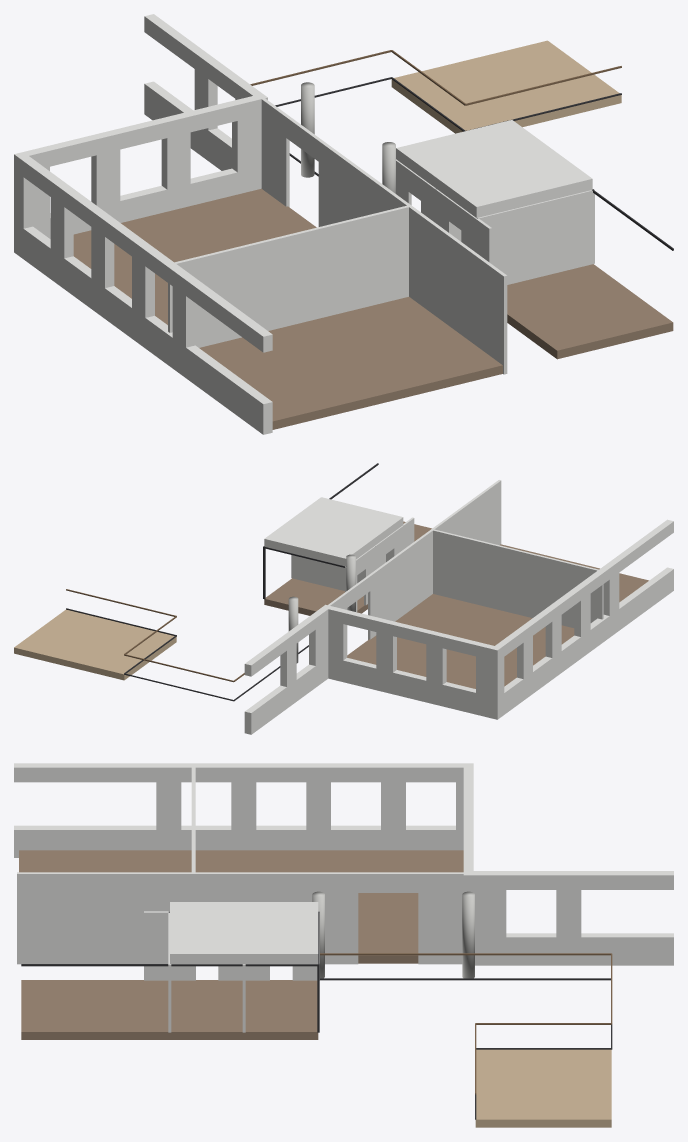
Rendered from SM_Bygg_Helgasetr_P3_V_MN.fbx.
3 renders of one model, top to bottom at view 1: azimuth 30°, elevation 25°; view 2: azimuth 150°, elevation 25°; view 3: azimuth 270°, elevation 25°, orthographic. The views are drawn at different scales.
Visible parts, largest first — view 1: SM_Bygg_Helgasetr_P3_V_MN; view 2: SM_Bygg_Helgasetr_P3_V_MN; view 3: SM_Bygg_Helgasetr_P3_V_MN.
Part boxes in pixels (box(x1,y1,x2,y2)): SM_Bygg_Helgasetr_P3_V_MN: box(14, 14, 673, 434); SM_Bygg_Helgasetr_P3_V_MN: box(14, 463, 673, 734); SM_Bygg_Helgasetr_P3_V_MN: box(14, 763, 673, 1127).
Size of the model in its own units: 26.45 by 25.95 by 4.
